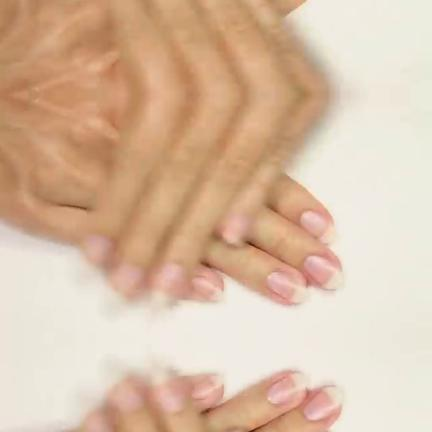Nail: (266, 270, 310, 302), (266, 372, 310, 404), (304, 254, 344, 288), (304, 386, 344, 420), (300, 209, 339, 243), (191, 276, 224, 301), (191, 373, 224, 398), (324, 431, 334, 432)
